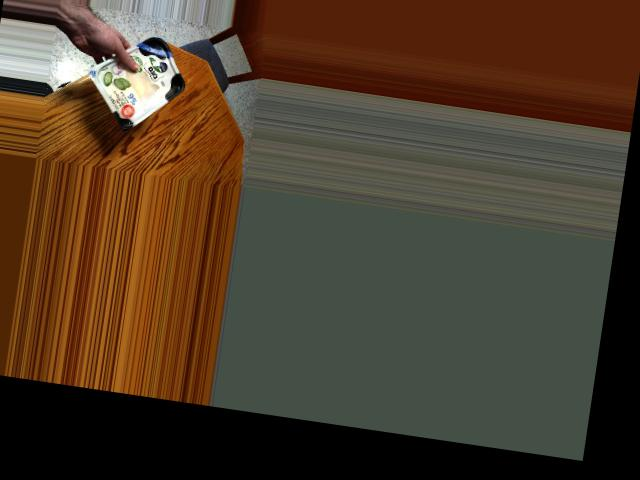cheese: (98, 37, 191, 127)
